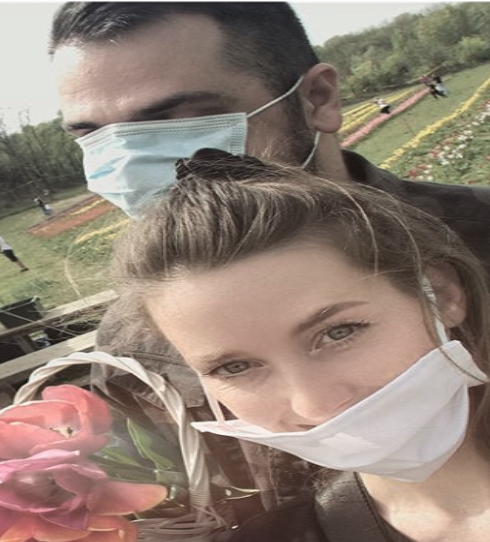mask_weared_incorrect: (141, 190, 481, 482), (38, 2, 342, 224)
